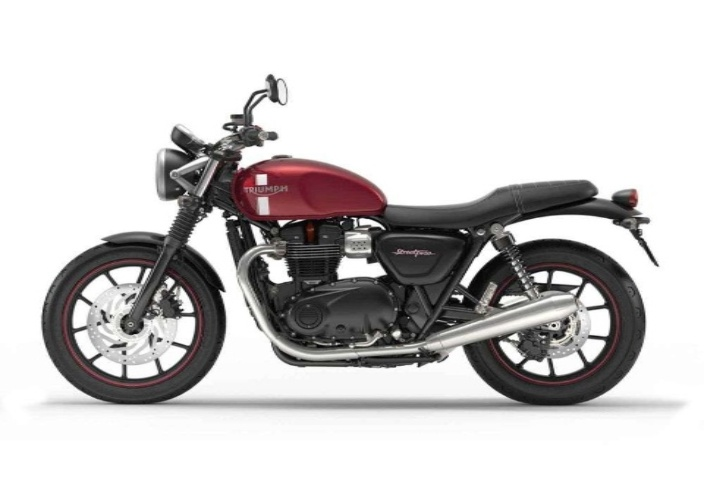motorcycle: (31, 59, 668, 429)
